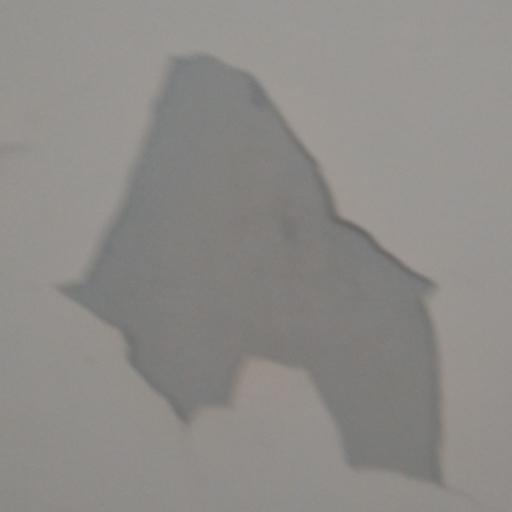peeling: (51, 42, 454, 493)
